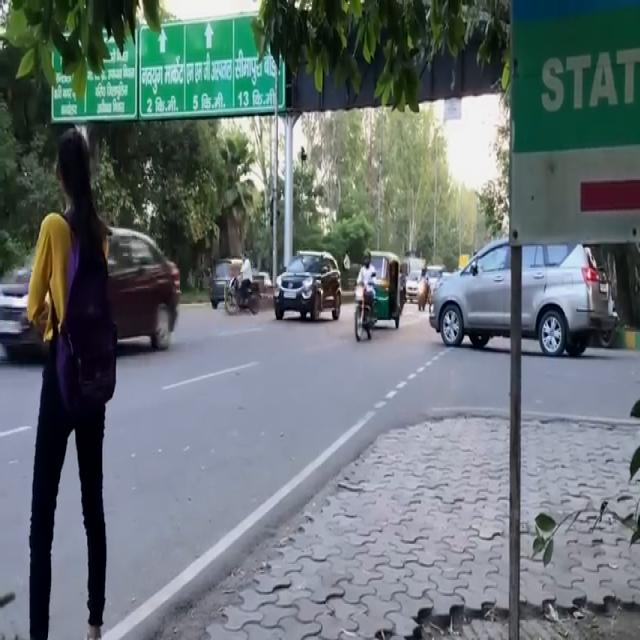MOTORCYCLE: (223, 267, 262, 319), (354, 283, 376, 338), (416, 277, 428, 308)
SED: (0, 231, 185, 351)
SUV: (434, 238, 616, 357), (275, 246, 343, 326)
